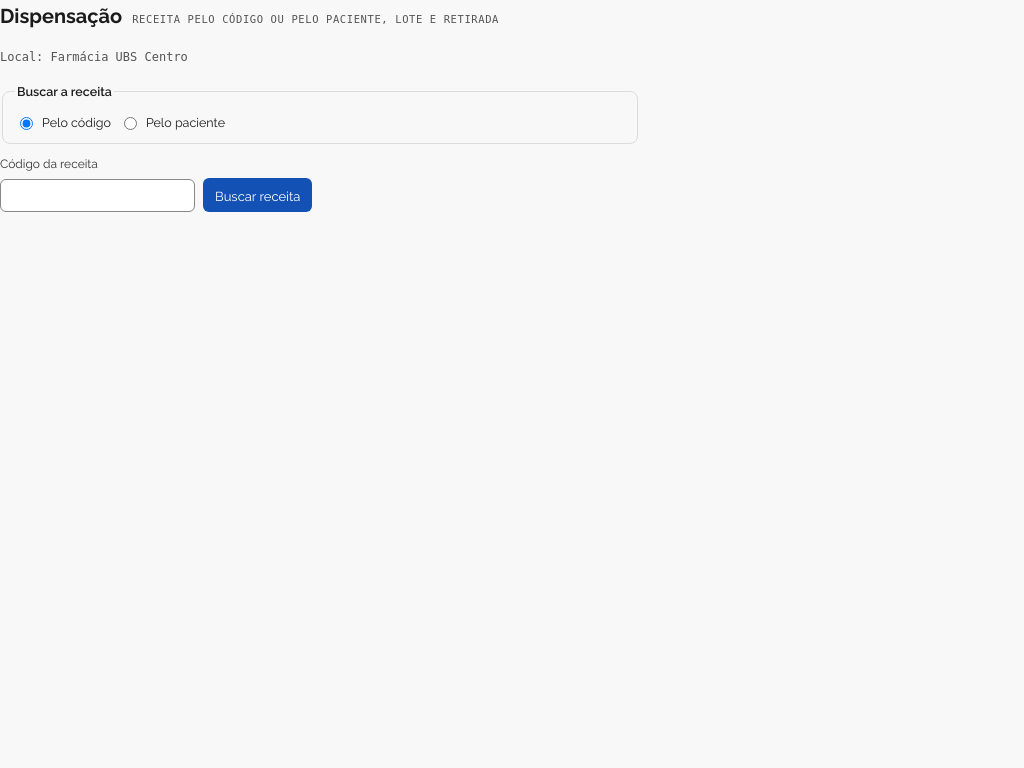
Test: PharmacyDispensing — busca › receita vencida ou cancelada: o motivo no lugar de Dispensar
This screenshot has width=1024, height=768.
Type "ABCDE23456" into the field labelled "Código da receita" at (98, 196), box [0,179,195,212]
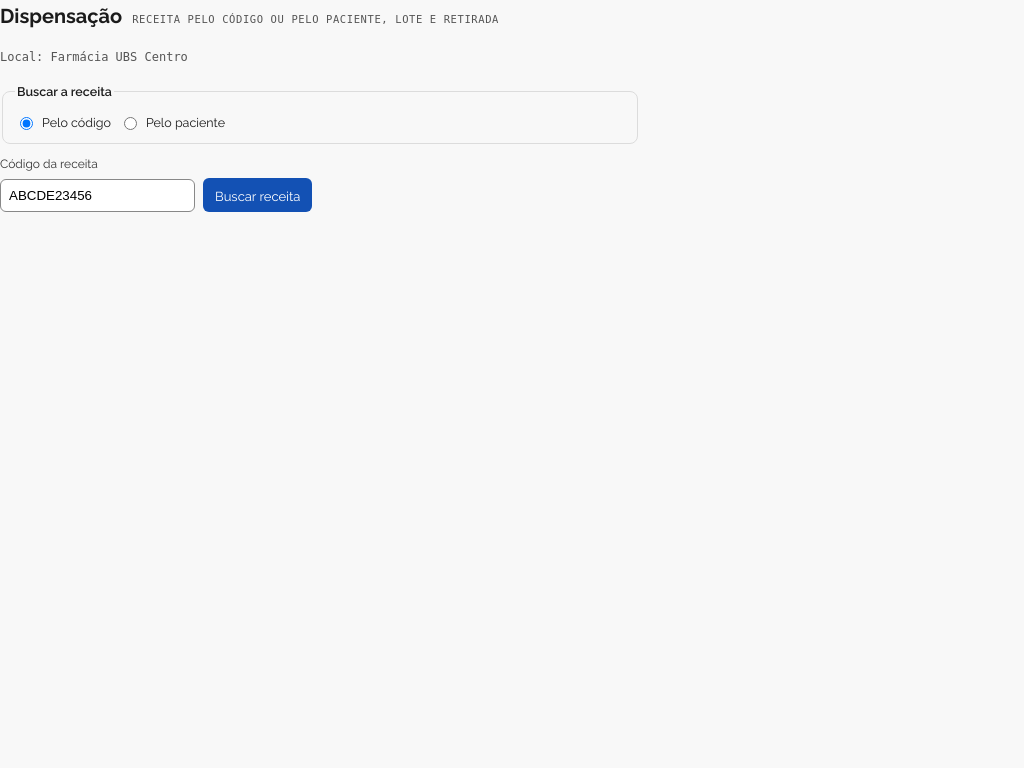
Click the button "Buscar receita" at (258, 195), box [203,178,312,212]
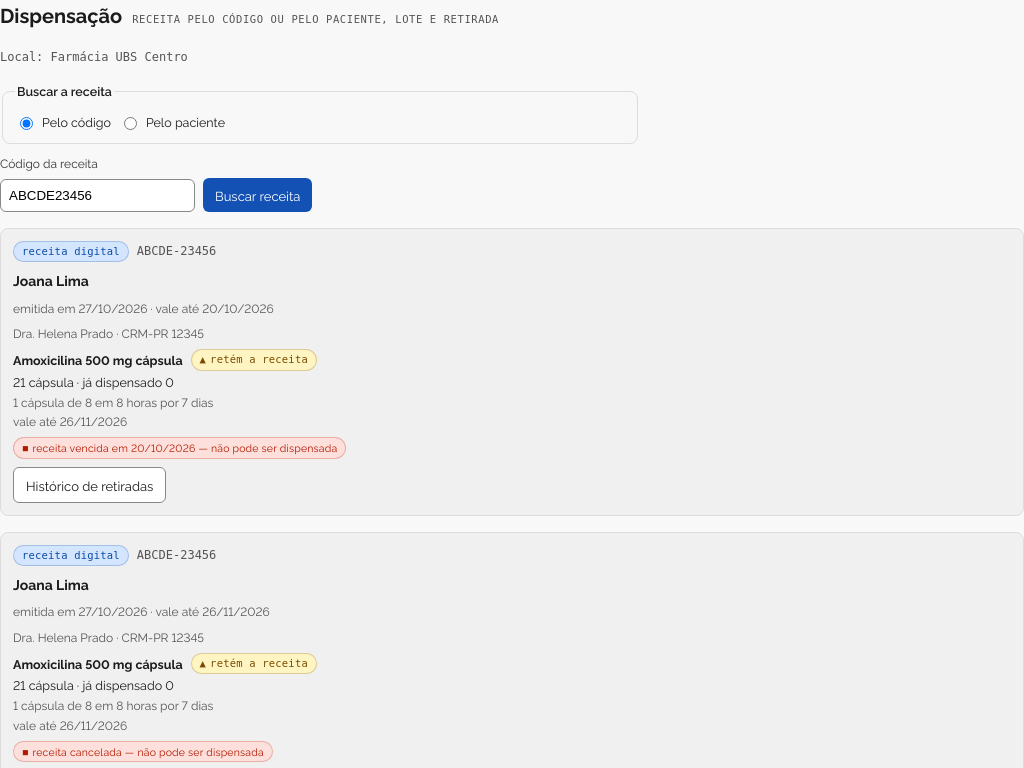
Result: the text "receita vencida em 20/10/2026 — não pode ser dispensada" is shown at [13,438,346,459]
Result: the text "receita cancelada — não pode ser dispensada" is shown at [13,741,273,762]
